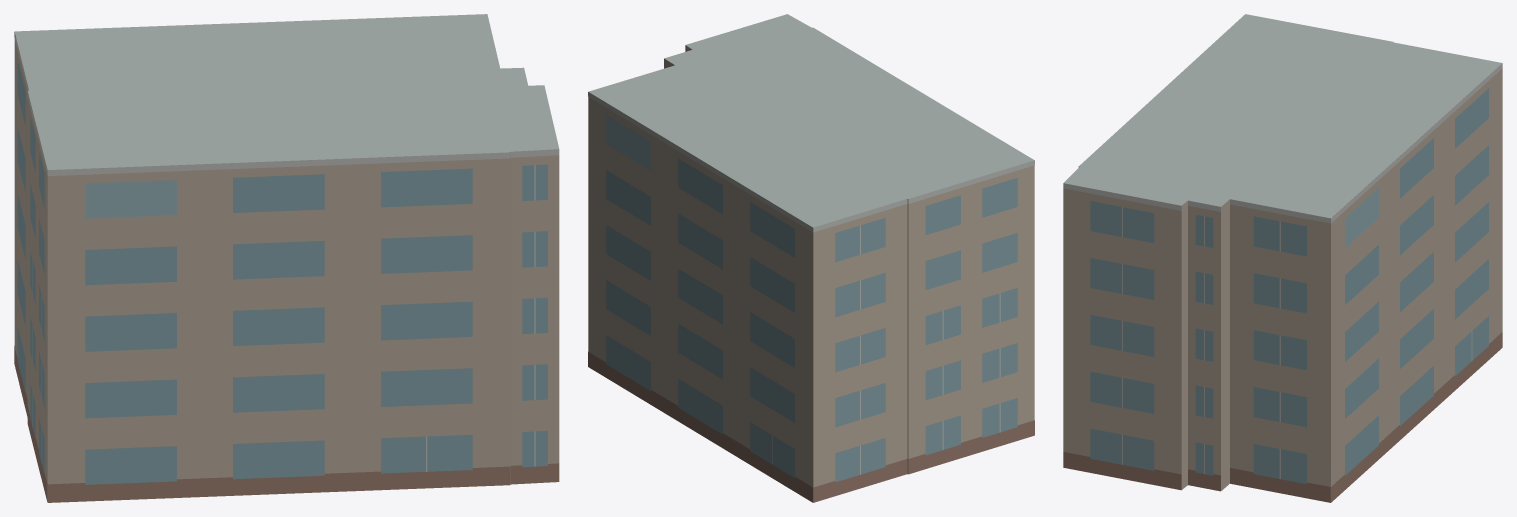
The model's file is survey-upis-32674464.glb.
3 renders of one model, left to right at view 1: azimuth 30°, elevation 25°; view 2: azimuth 150°, elevation 25°; view 3: azimuth 270°, elevation 25°, orthographic. The views are drawn at different scales.
Parts seen in each view (by area): view 1: survey-upis-32674464.tmp; view 2: survey-upis-32674464.tmp; view 3: survey-upis-32674464.tmp.
Boxes of the visible parts, box(x1,y1,x2,y2) form: survey-upis-32674464.tmp: box(14, 14, 559, 502); survey-upis-32674464.tmp: box(588, 14, 1034, 502); survey-upis-32674464.tmp: box(1063, 14, 1502, 502).
Bounding box in the file's own units: 20.66 × 13.4 × 18.76.
